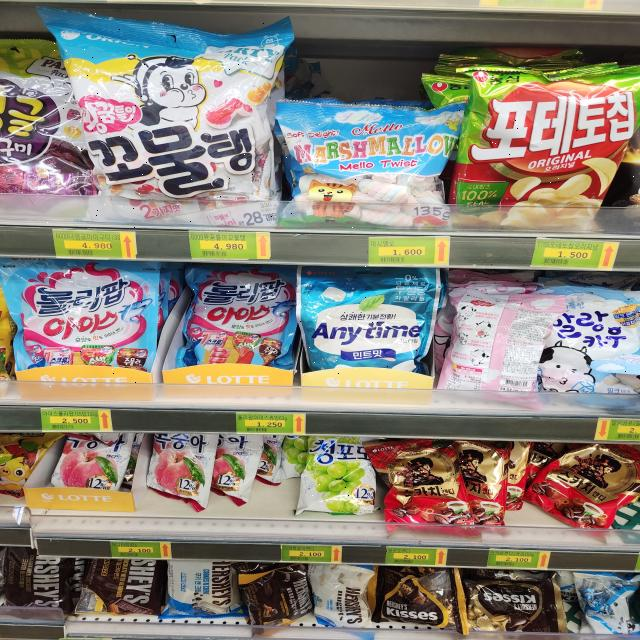product: (43, 11, 282, 228), (462, 59, 636, 238), (271, 98, 461, 230), (2, 258, 153, 393), (295, 265, 442, 377), (541, 283, 640, 417), (192, 262, 292, 373), (368, 443, 482, 535), (310, 433, 380, 517)
